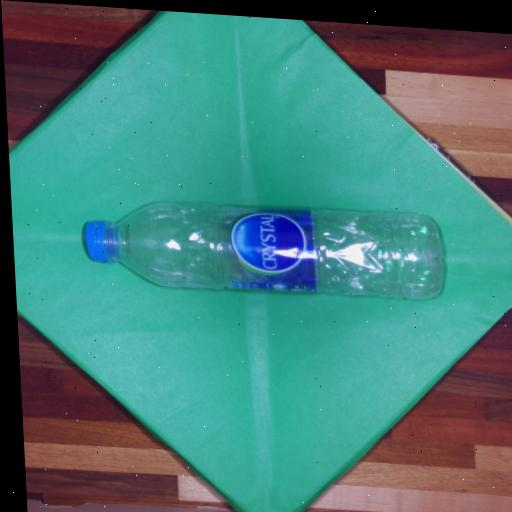bottle: (56, 169, 462, 319)
